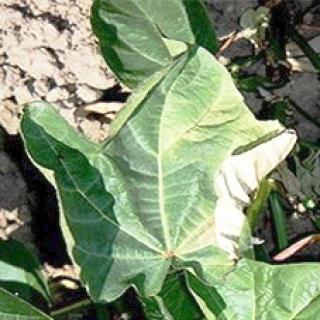wilt: (22, 55, 272, 272)
